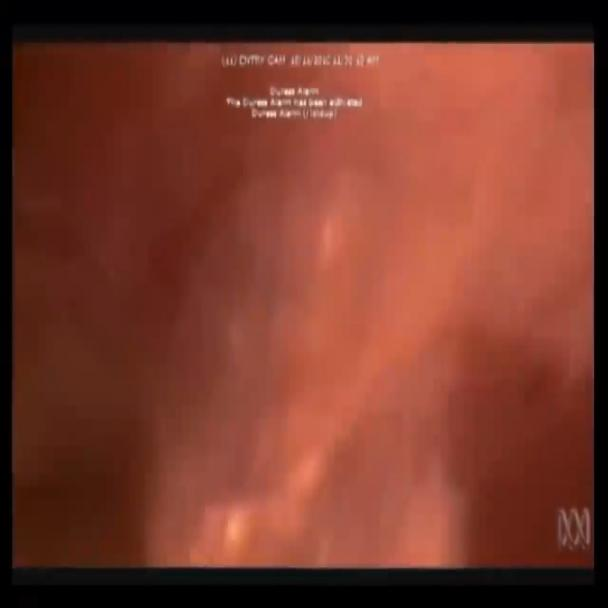Fire: (17, 42, 593, 560)
